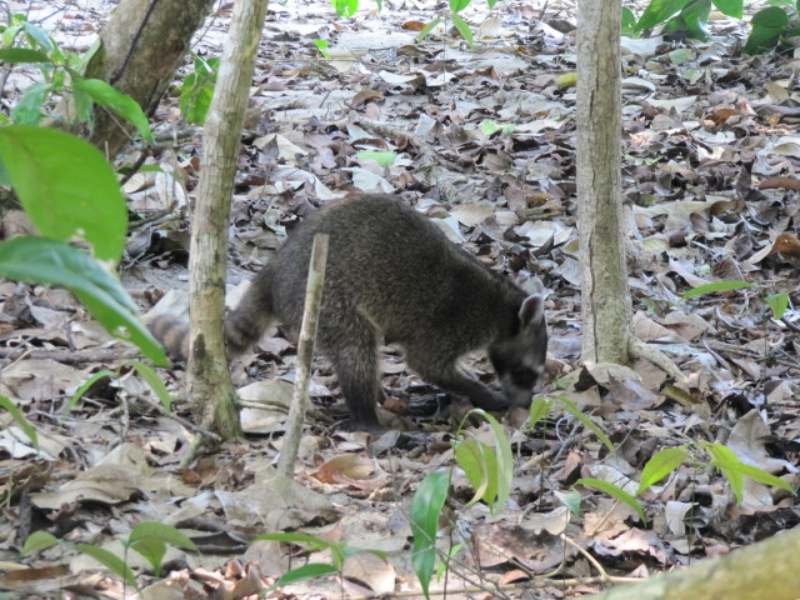raccoon: (148, 193, 551, 427)
